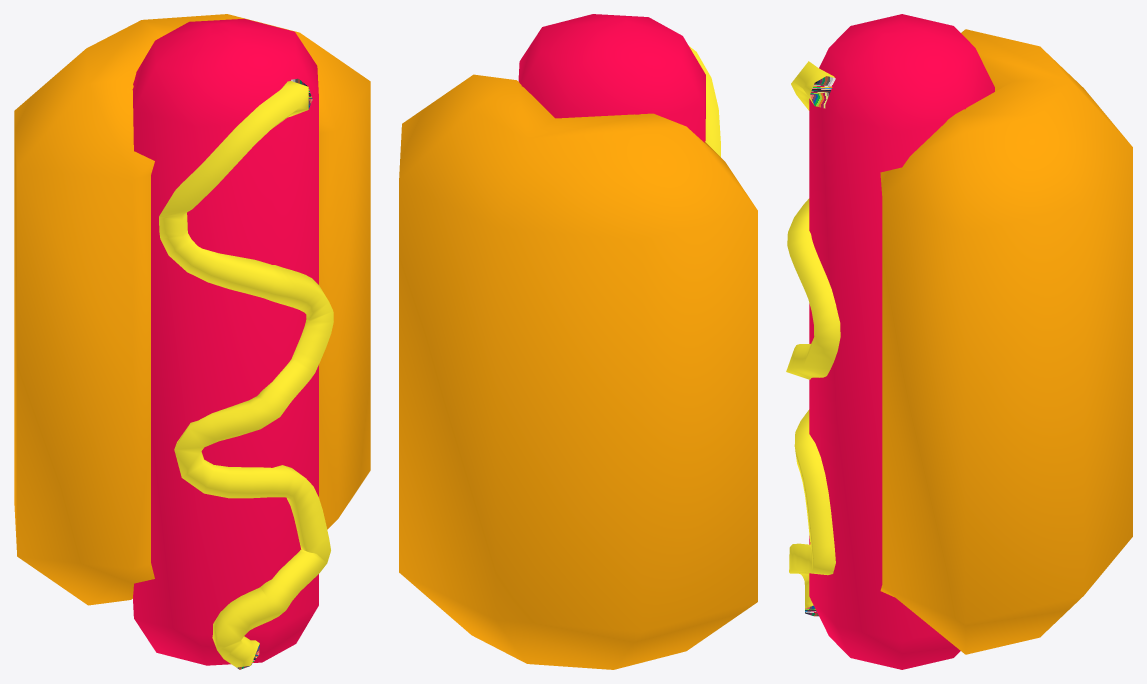
Rendered from dog.glb.
3 views of the same model, side by side, from view 1: azimuth 30°, elevation 25°; view 2: azimuth 150°, elevation 25°; view 3: azimuth 270°, elevation 25° (orthographic).
Parts seen in each view (by area): view 1: dog; view 2: dog; view 3: dog.
Boxes of the visible parts, x1,y1,x2,y2 form: dog: [14, 14, 370, 669]; dog: [399, 14, 757, 669]; dog: [786, 14, 1132, 669].
Size of the model in its own units: 0.4514 by 0.7564 by 0.3827.
1 material, 1 textured.
